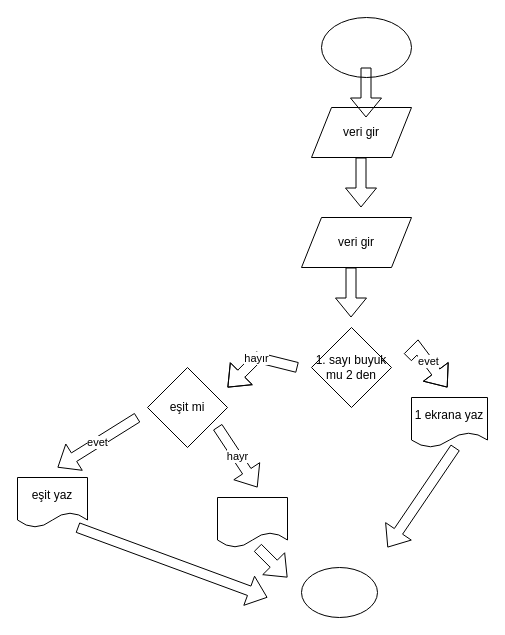
Some shapes in this 505 by 635 pixel diagram are drawn without their labels. The shapes that lost their labels are listed below. From the top down, each one's box as (x1, y1, x2, y2) in pixels, then its label:
(320, 16, 412, 78): basla
(216, 496, 288, 548): 2 yaz
(300, 566, 378, 618): bitti
